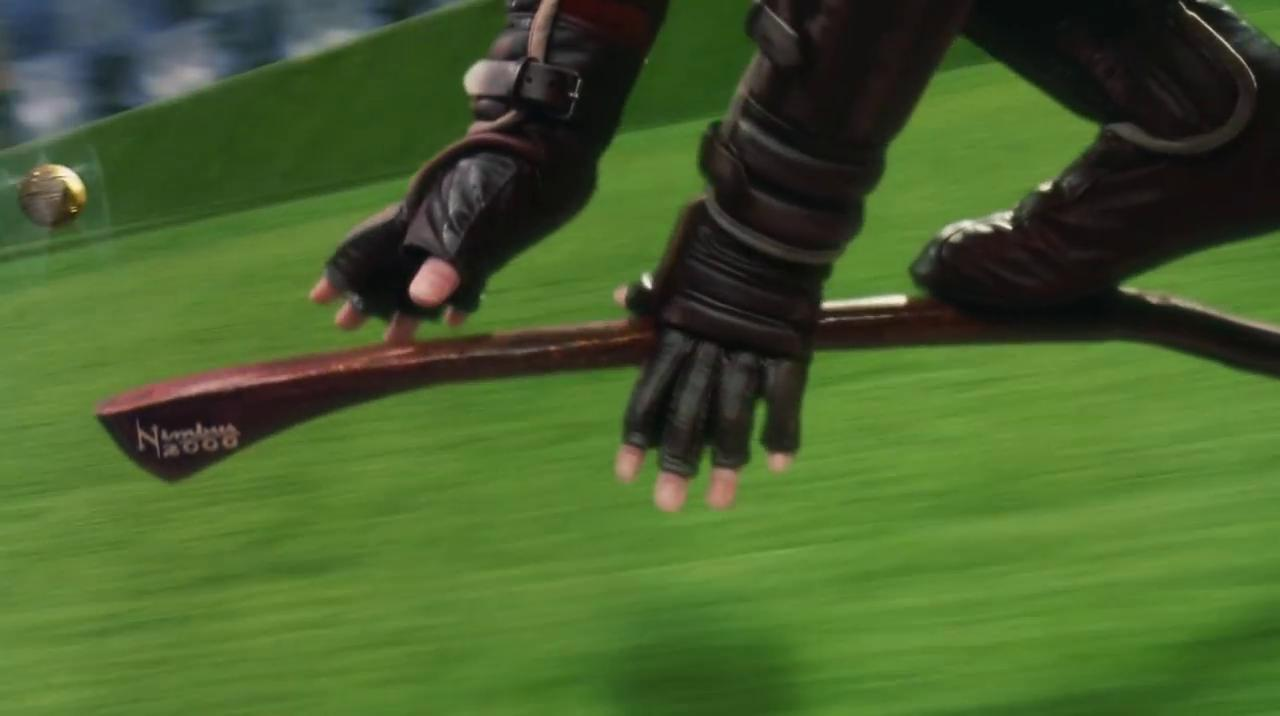snitch: (16, 164, 90, 225)
